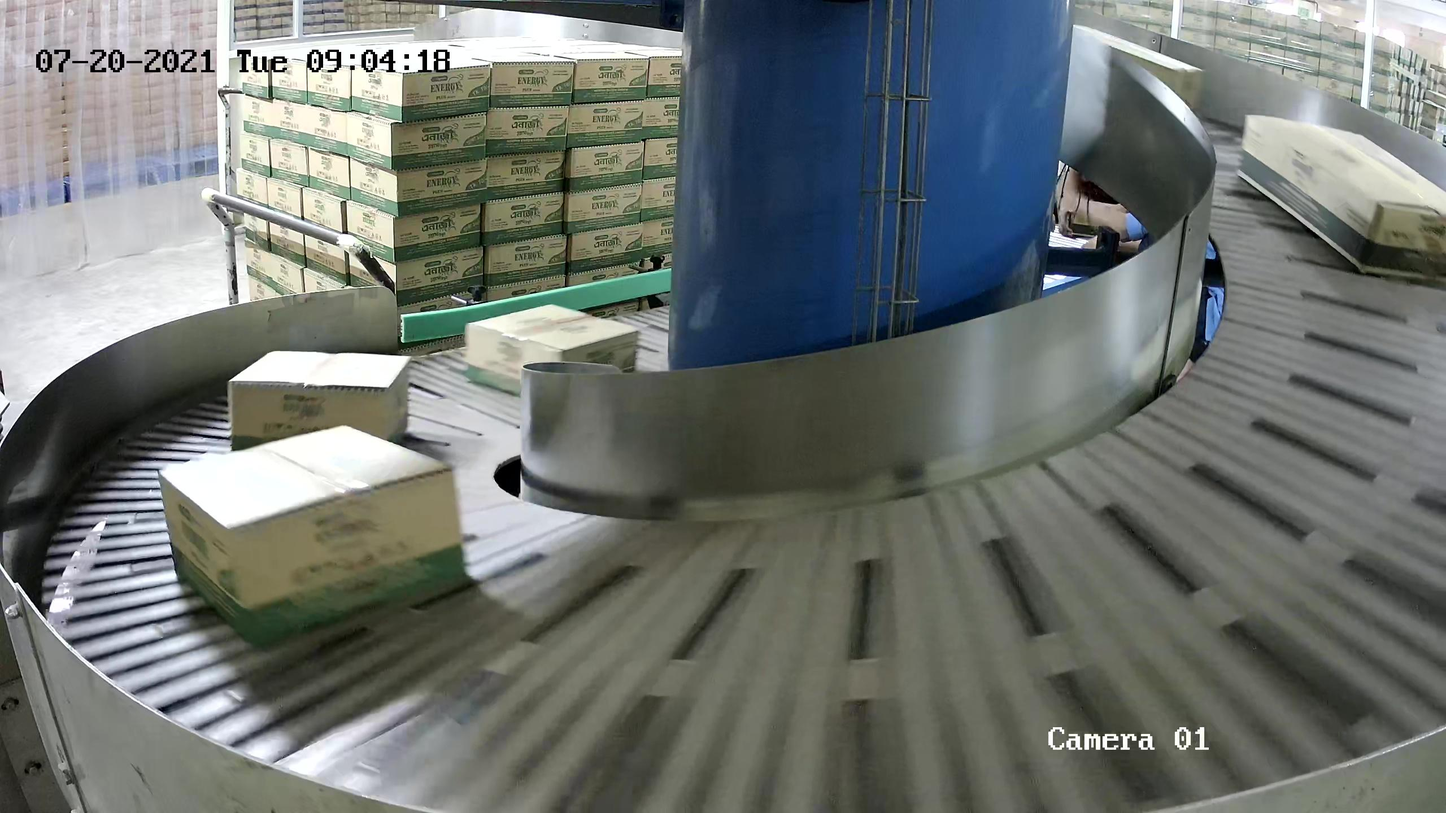Box: (157, 422, 470, 647), (1237, 109, 1446, 291), (228, 347, 412, 459), (466, 302, 642, 410)
